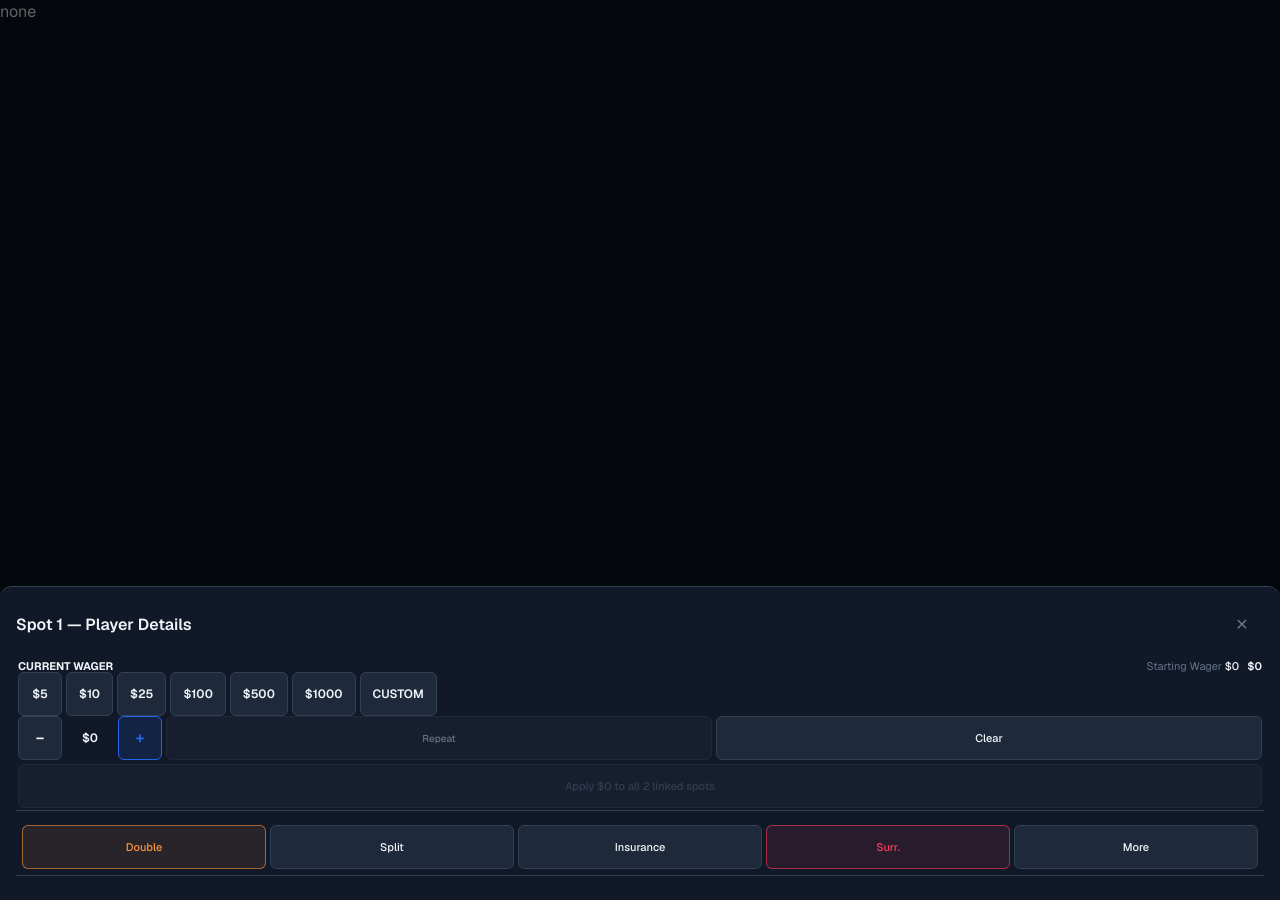
Scenario: live entry surface — mobile layout regression › Apply to linked spots is reachable from the Player Details sheet (one sheet, both layouts now), and actually applies the bet
What coordinates should you click on to do the following:
click the button "$25"
I would click on:
 (142, 694)
Its box is [117, 672, 166, 716].
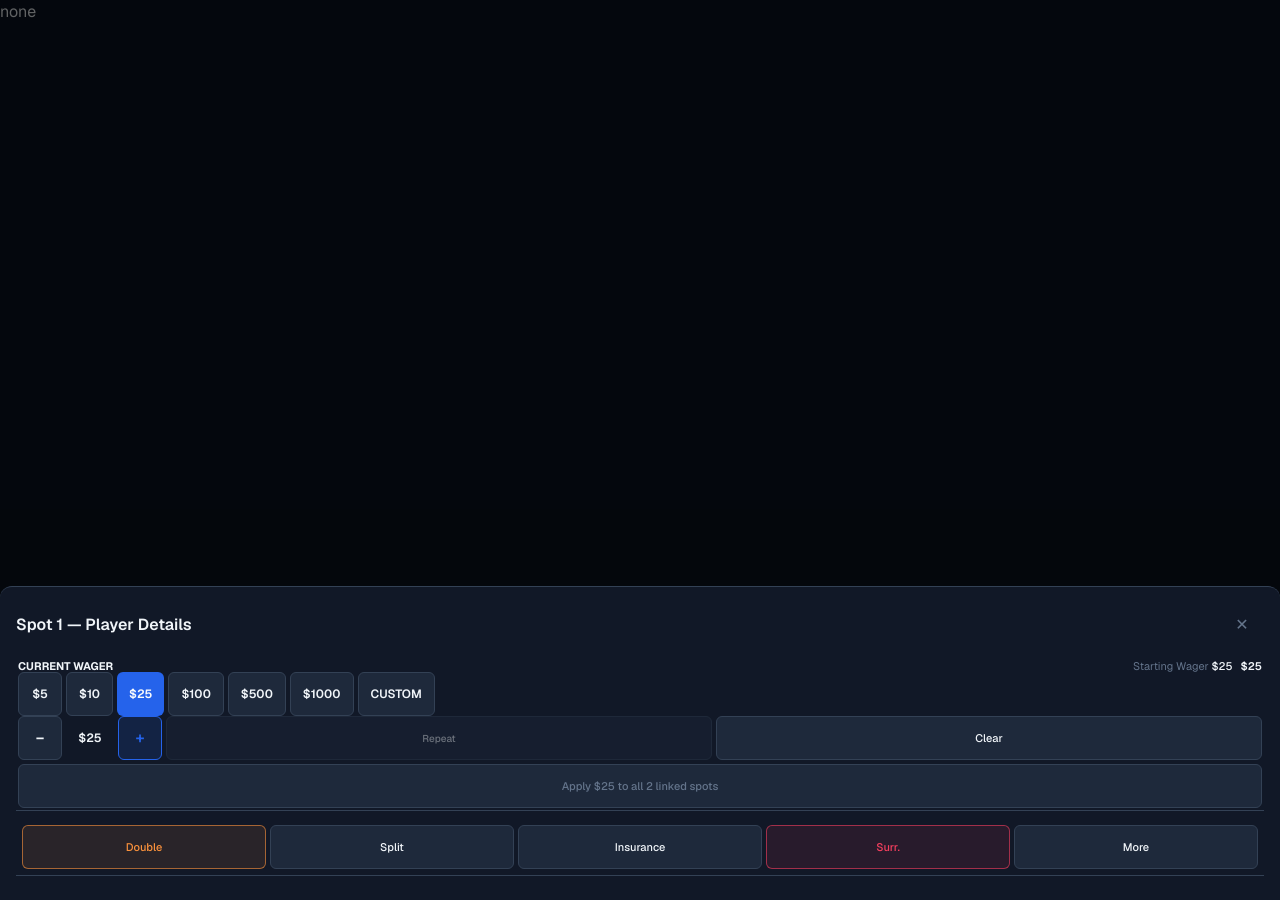
Check: the text with test id "seat2-bet" reads "none", box [0, 1, 36, 22]
Check: the button "Apply $25 to all 2 linked spots" is enabled
What coordinates should you click on to do the following:
click the button "Apply $25 to all 2 linked spots"
I would click on:
 (640, 786)
Its box is [18, 764, 1262, 808].
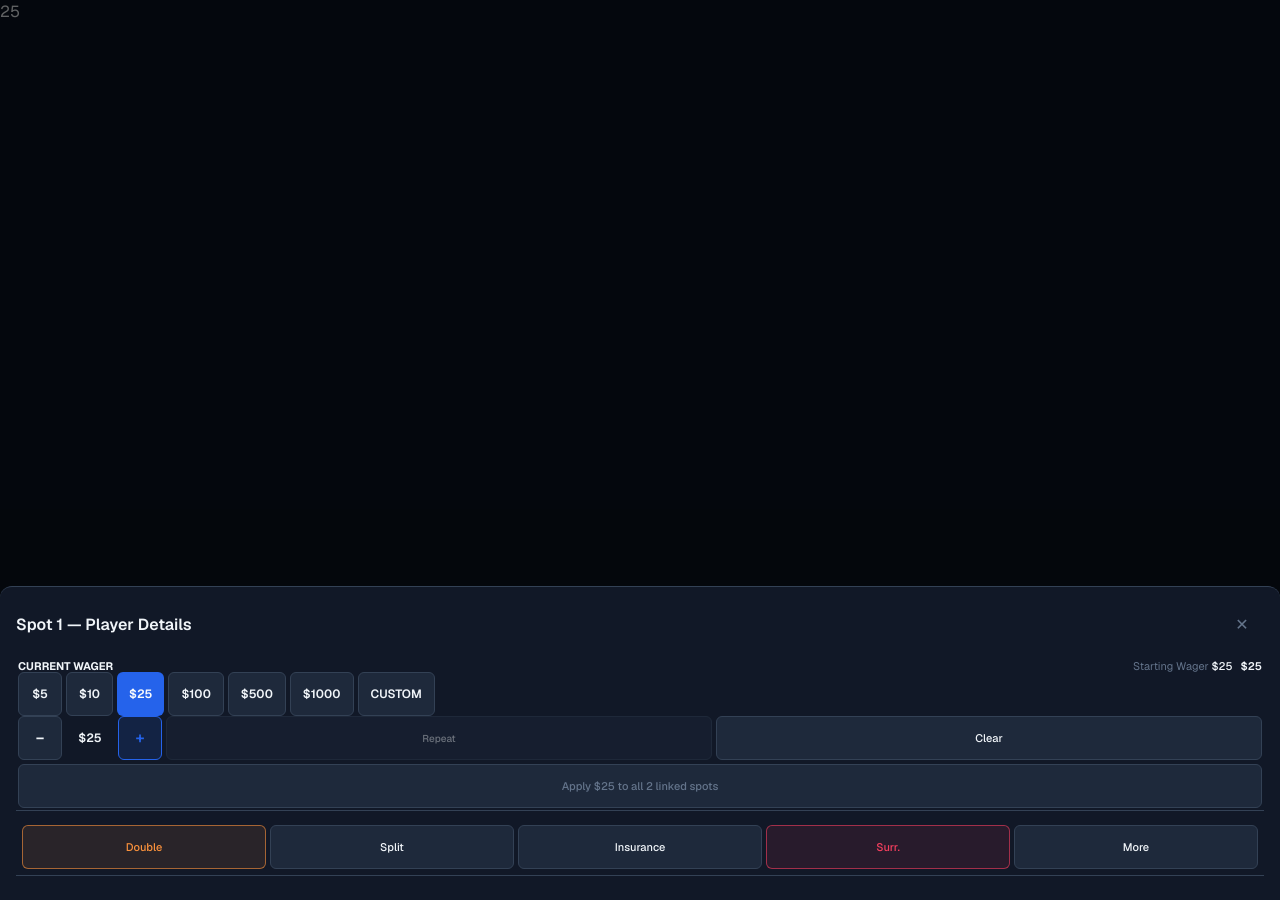
Check: the text with test id "seat2-bet" reads "25", box [0, 1, 20, 22]
